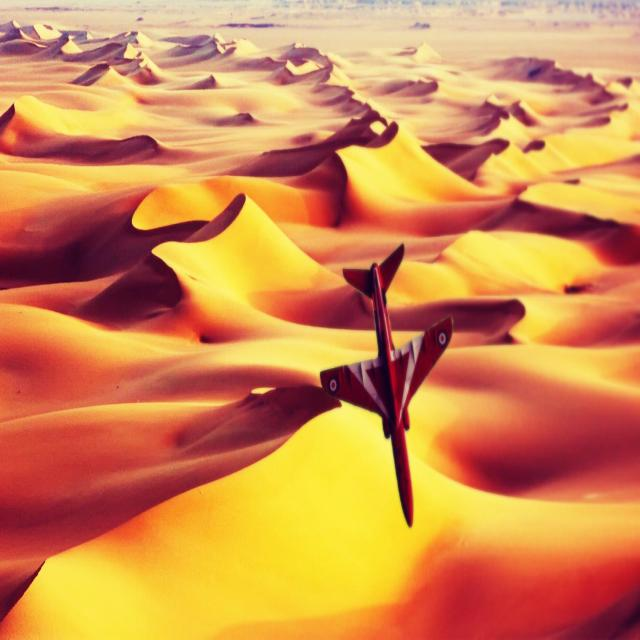airplane: (318, 241, 454, 531)
